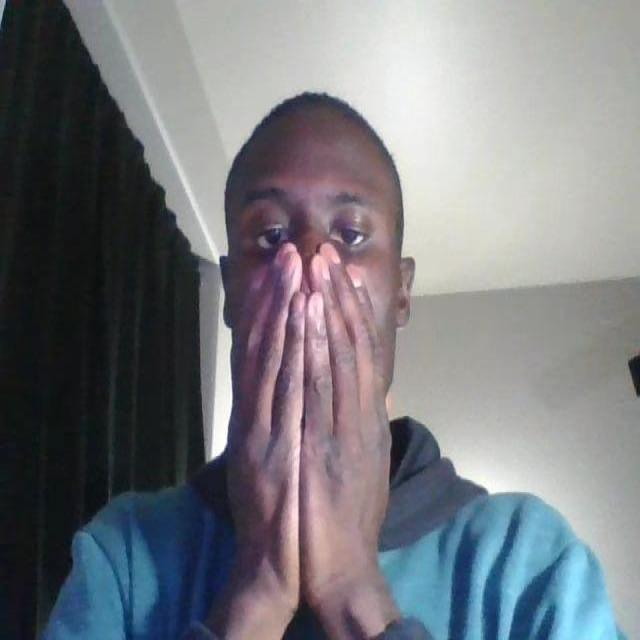no-helmet: (227, 168, 398, 401)
